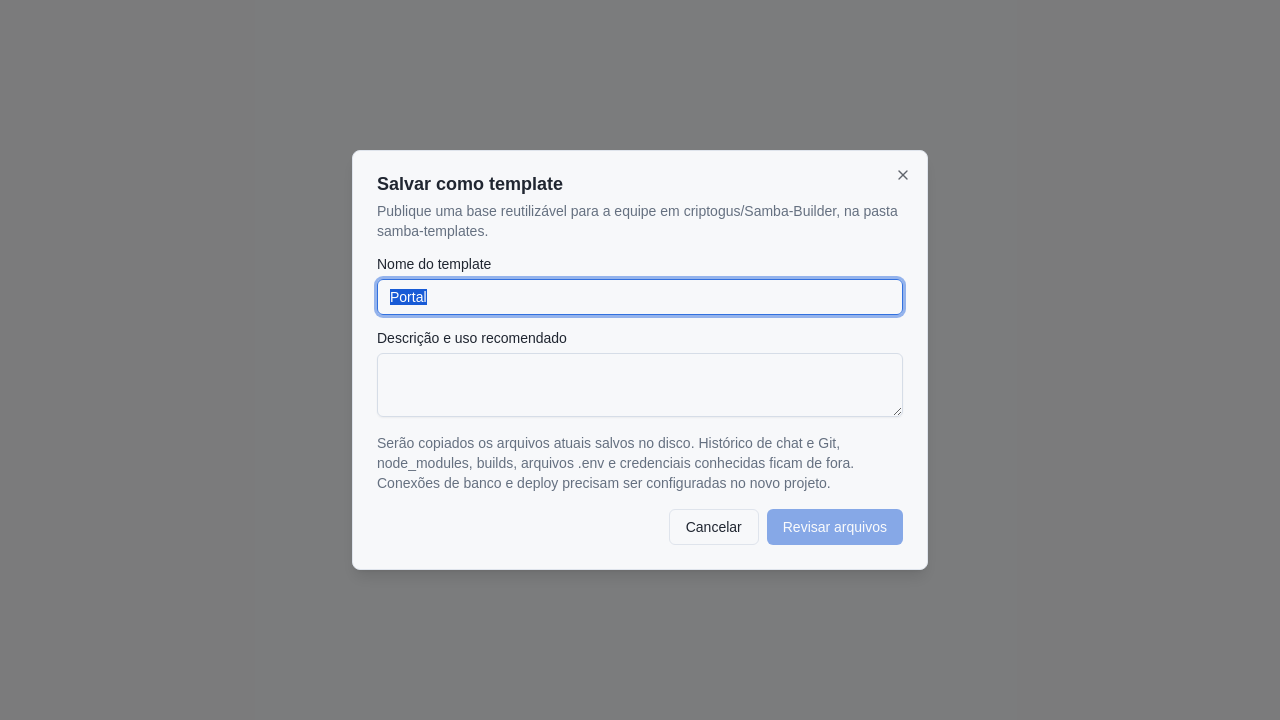
discards a reviewed copy when leaving and never uploads it
Type "Base" into the text box labelled "Descrição e uso recomendado". click: (640, 385)
box: x1=377 y1=353 x2=903 y2=417
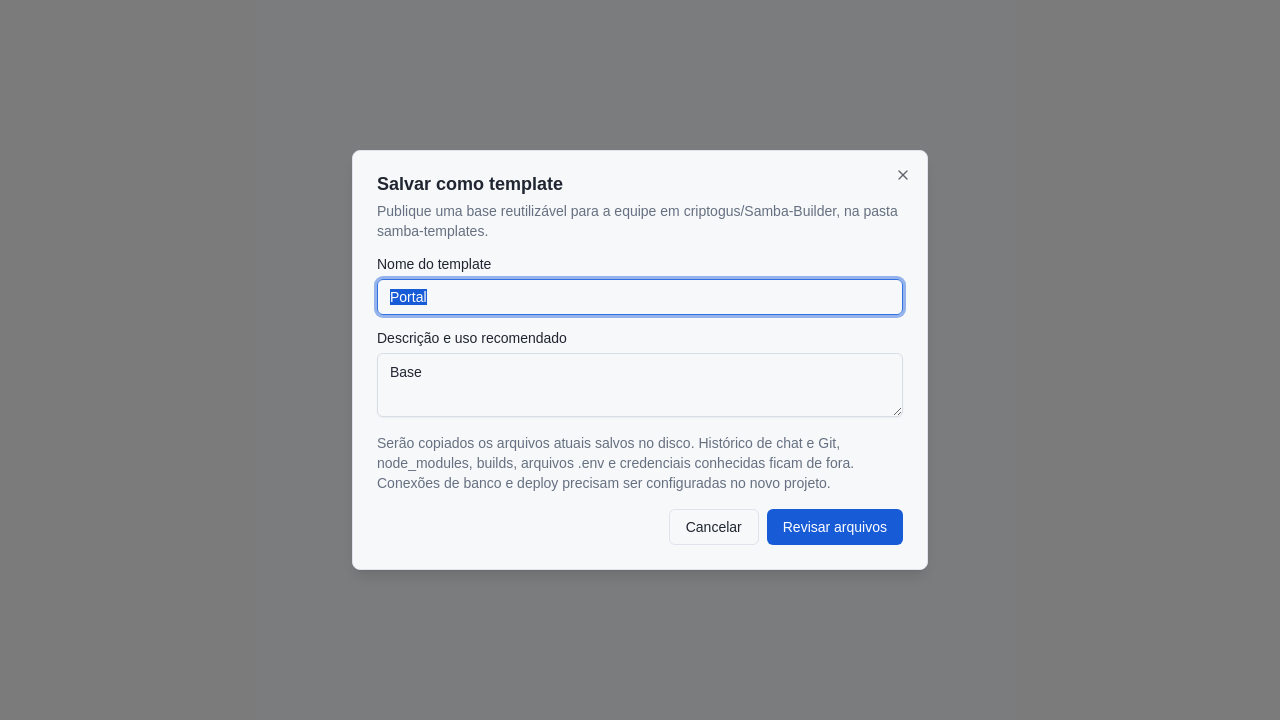
Click the button "Revisar arquivos". click: (835, 527)
box: x1=767 y1=509 x2=903 y2=545
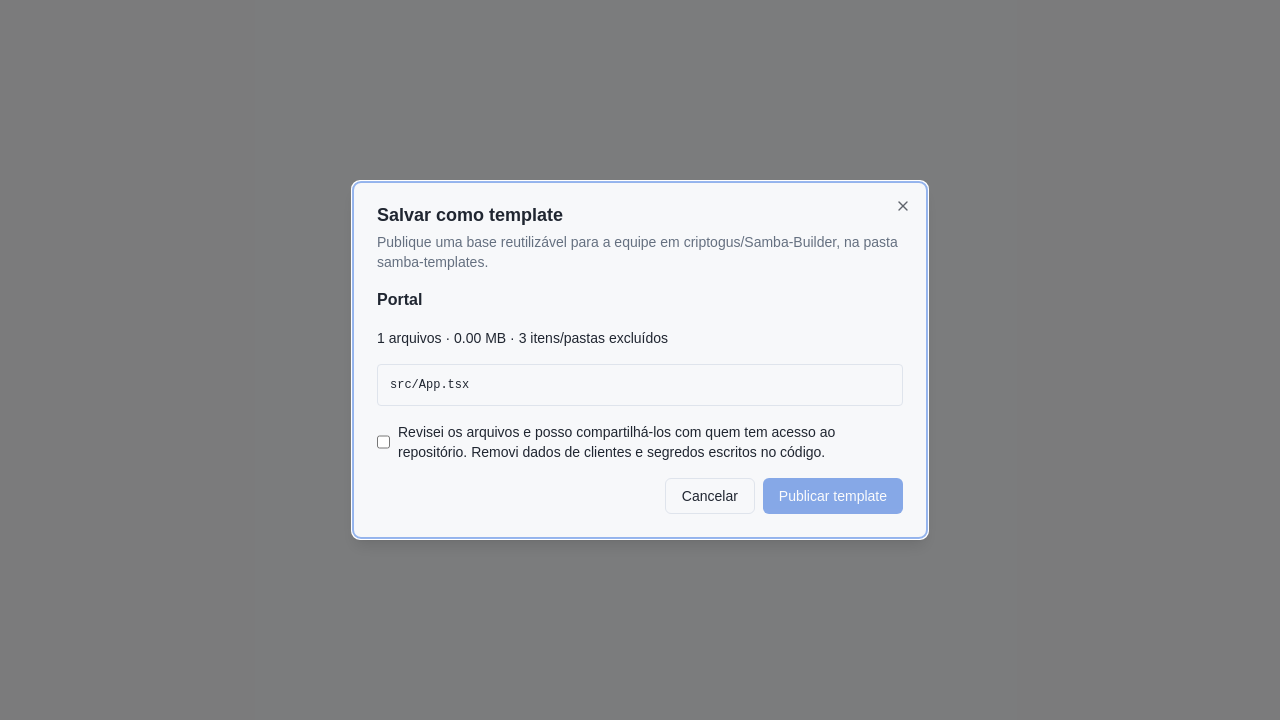
Result: the list named "Arquivos do template" is shown at x1=377 y1=364 x2=903 y2=406
